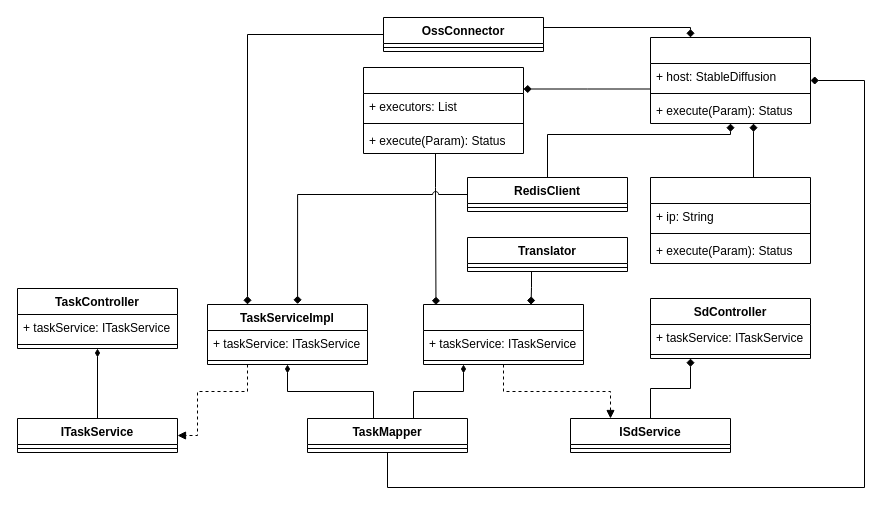
Some shapes in this 890 by 513 pixel diagram are drawn without their labels. The box of each missing label's shape, as (x1, y1, x2, y2) in pixels:
SdServiceImpl: (422, 304, 584, 364)
StableDiffusion: (650, 176, 810, 264)
XxlJobAdmin: (362, 66, 524, 154)
XxlJobExecutor: (650, 36, 810, 124)
